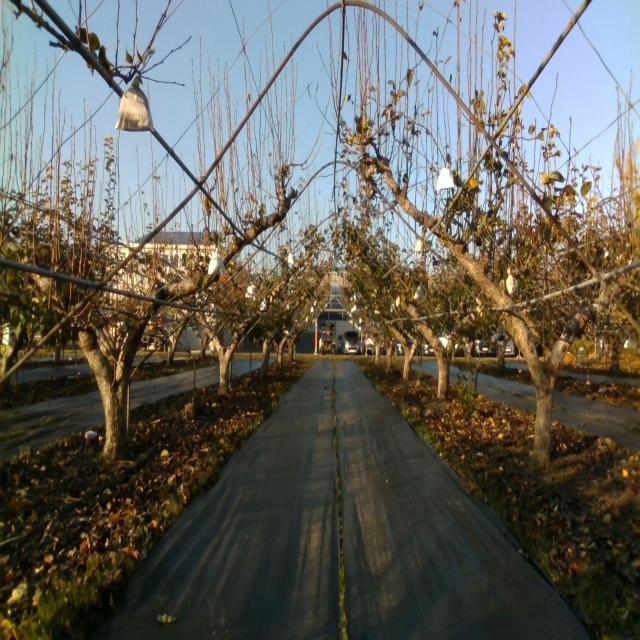pearbags: (114, 85, 153, 134), (207, 248, 226, 278), (437, 163, 454, 194), (506, 266, 520, 299), (245, 282, 256, 300)
